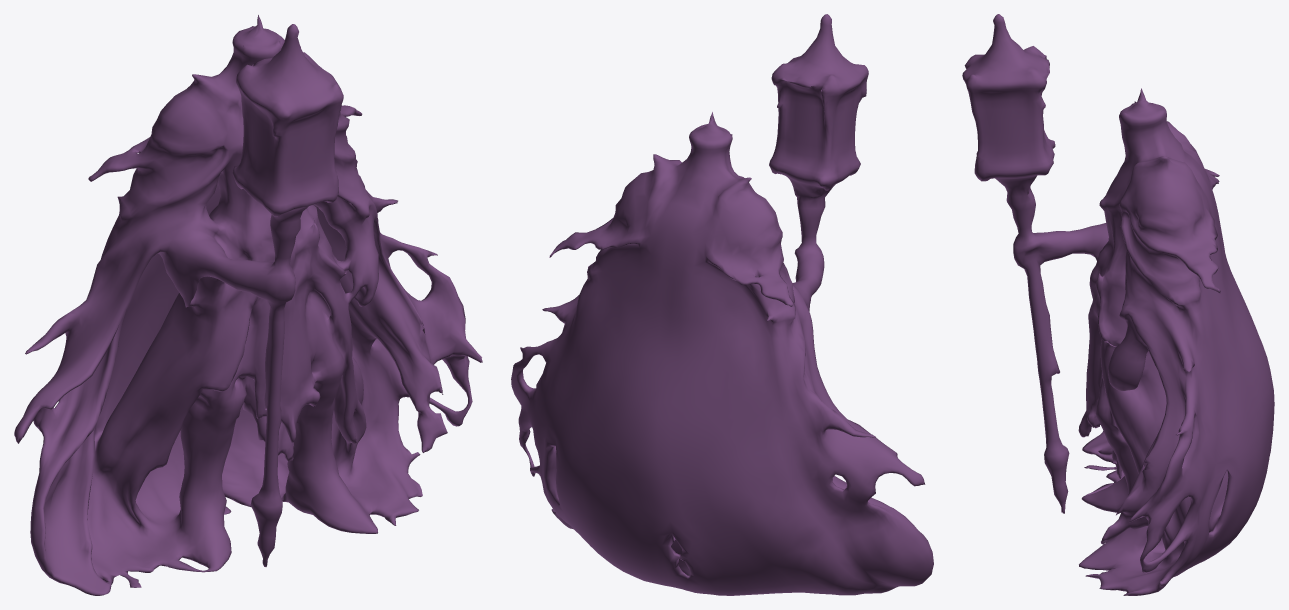
The model's file is lantern-tyrant.glb.
3 views of the same model, side by side, from view 1: azimuth 30°, elevation 25°; view 2: azimuth 150°, elevation 25°; view 3: azimuth 270°, elevation 25° (orthographic). The views are drawn at different scales.
Visible parts, largest first — view 1: model; view 2: model; view 3: model.
Boxes of the visible parts, x1,y1,x2,y2 form: model: [14, 15, 482, 595]; model: [511, 14, 933, 595]; model: [962, 14, 1274, 595].
Size of the model in its own units: 1.55 by 1.86 by 1.05.
